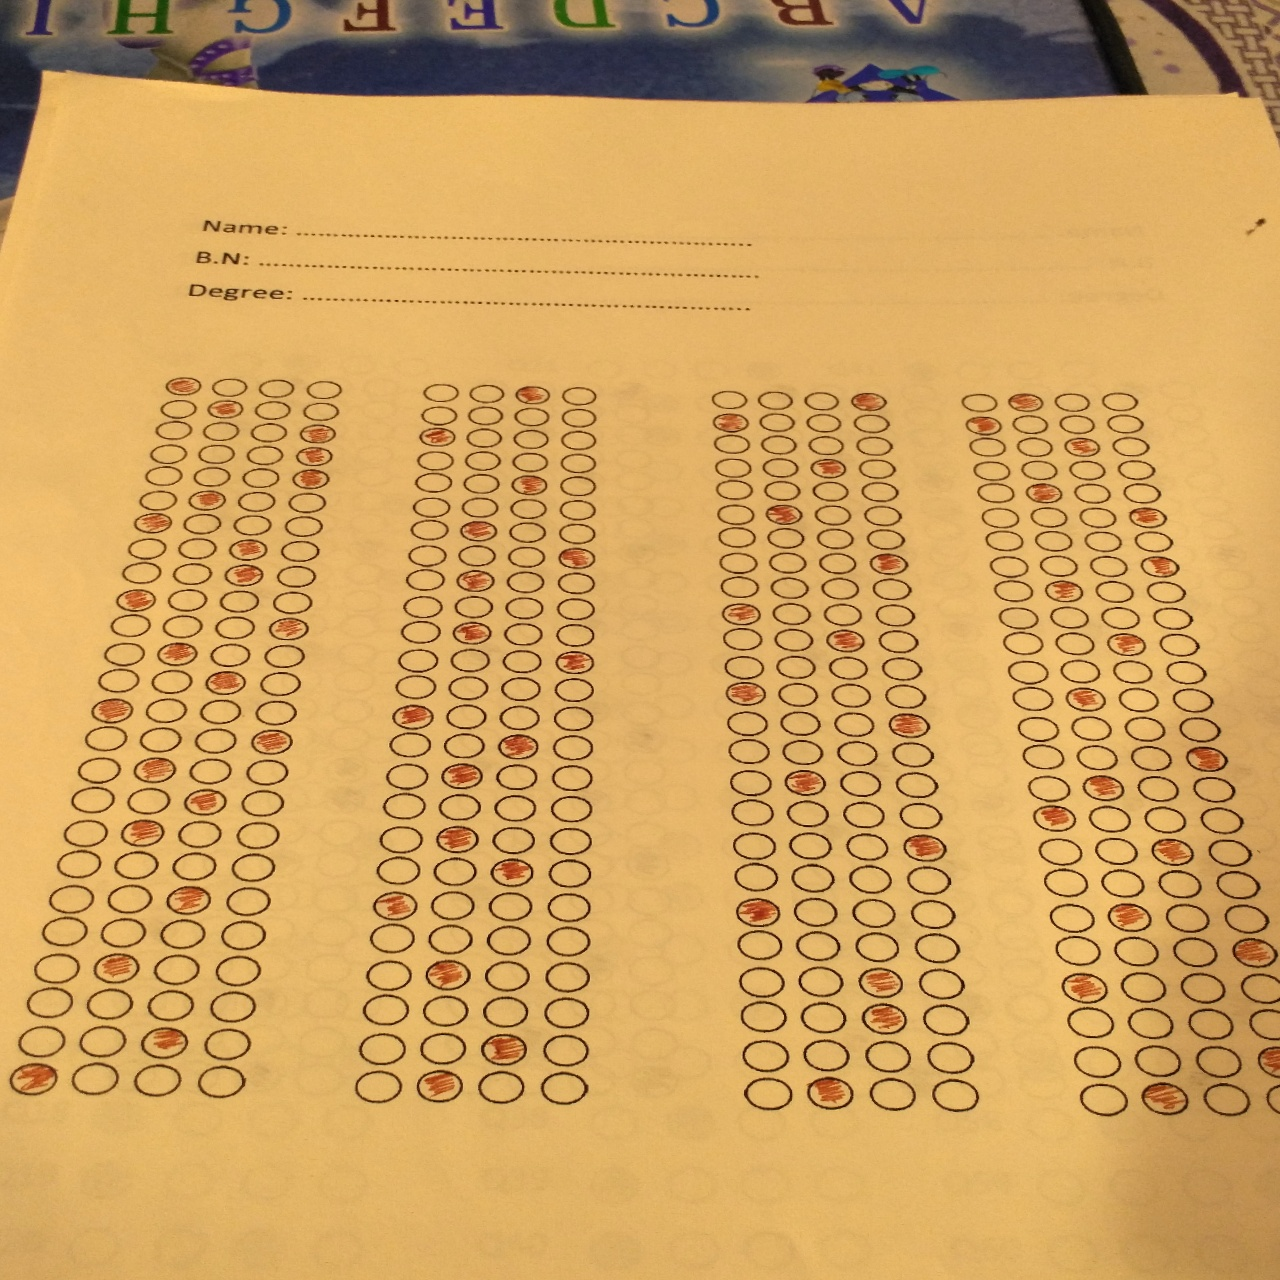not-c: (352, 1068, 403, 1107), (926, 1040, 978, 1078), (1201, 1081, 1253, 1119), (1051, 932, 1103, 971), (915, 966, 967, 1005), (72, 1060, 122, 1098), (361, 990, 411, 1029), (1077, 1081, 1128, 1119), (797, 999, 847, 1037), (736, 964, 787, 1002), (476, 1069, 527, 1107), (542, 960, 593, 998), (931, 1077, 982, 1115), (1194, 1042, 1246, 1080), (864, 1037, 915, 1075), (799, 1036, 851, 1074), (741, 1037, 792, 1075), (794, 962, 845, 1000), (132, 1062, 183, 1099), (76, 1022, 127, 1060), (16, 1023, 67, 1061), (363, 956, 414, 994), (539, 1071, 590, 1109), (542, 1032, 592, 1069), (542, 994, 592, 1032), (743, 1076, 794, 1114), (867, 1076, 918, 1114), (1133, 1043, 1184, 1081), (1073, 1044, 1123, 1082), (1065, 1003, 1116, 1041), (1125, 1005, 1176, 1042), (1186, 1006, 1237, 1043), (1179, 971, 1230, 1008), (1119, 969, 1170, 1007), (737, 998, 788, 1035), (792, 927, 843, 965), (913, 930, 964, 967), (908, 896, 959, 933), (735, 927, 787, 964), (356, 1032, 407, 1068), (921, 1002, 972, 1039), (852, 928, 903, 965), (847, 896, 899, 931), (96, 914, 147, 949), (196, 1064, 246, 1099), (730, 860, 781, 896), (785, 828, 836, 863), (789, 896, 840, 930), (152, 951, 202, 986), (203, 1027, 252, 1062), (420, 993, 469, 1028), (418, 1030, 468, 1065), (46, 881, 96, 915), (40, 914, 90, 948), (156, 917, 206, 951), (729, 829, 779, 863), (905, 864, 955, 898), (1040, 867, 1090, 901), (1047, 903, 1097, 937), (1162, 903, 1212, 937), (1211, 869, 1261, 903), (1090, 835, 1141, 869), (1196, 803, 1246, 837), (27, 985, 75, 1020), (483, 994, 531, 1029), (33, 949, 82, 983), (145, 987, 195, 1021), (789, 862, 838, 896), (1223, 903, 1272, 937), (1156, 866, 1205, 900), (1111, 935, 1160, 969), (1170, 935, 1219, 969), (224, 885, 274, 918), (1205, 836, 1255, 869), (491, 760, 539, 794), (545, 856, 593, 890), (105, 881, 154, 915), (220, 919, 268, 953), (84, 987, 132, 1021), (207, 990, 257, 1023), (846, 863, 896, 896), (1099, 866, 1149, 899), (484, 959, 531, 993), (431, 855, 479, 887), (437, 790, 485, 823), (549, 762, 597, 795), (486, 890, 535, 922), (428, 888, 476, 921), (367, 921, 415, 954), (427, 922, 475, 955), (484, 922, 532, 955), (543, 924, 591, 956), (215, 954, 263, 987), (1037, 835, 1085, 867), (238, 788, 287, 819), (491, 792, 538, 825), (489, 823, 536, 856), (547, 824, 594, 857), (549, 794, 595, 826), (549, 731, 595, 764), (1239, 971, 1280, 1008), (544, 892, 592, 924), (192, 726, 240, 757), (169, 850, 217, 881), (897, 799, 945, 831), (729, 796, 777, 828), (726, 768, 774, 799), (723, 709, 771, 741), (721, 651, 769, 682), (1133, 772, 1182, 804), (1189, 772, 1237, 804), (61, 818, 110, 849), (229, 852, 278, 883), (843, 799, 890, 831), (784, 798, 831, 830), (186, 755, 234, 785), (74, 755, 122, 785), (234, 821, 282, 851), (177, 818, 225, 849), (56, 847, 104, 878), (1141, 804, 1189, 835), (1024, 772, 1073, 803), (375, 855, 422, 885), (113, 850, 159, 880), (1087, 803, 1133, 833), (726, 736, 772, 767), (442, 702, 490, 731), (377, 825, 425, 855), (136, 726, 184, 755), (842, 832, 890, 862), (442, 729, 488, 760), (837, 769, 883, 799), (243, 757, 290, 787), (69, 784, 116, 813), (835, 738, 881, 768), (253, 697, 298, 728), (108, 611, 154, 640), (552, 621, 598, 651), (387, 730, 433, 760), (383, 761, 429, 790), (149, 666, 195, 695), (145, 696, 191, 726), (82, 723, 128, 753), (720, 624, 765, 653), (381, 792, 428, 821), (207, 642, 254, 670), (124, 787, 171, 815), (774, 681, 821, 709), (890, 740, 937, 768), (1176, 715, 1223, 743), (1074, 743, 1118, 772), (1068, 715, 1112, 744), (1164, 658, 1208, 687), (394, 646, 440, 674), (496, 675, 542, 703), (550, 676, 595, 704), (774, 653, 819, 681), (824, 654, 870, 682), (883, 683, 928, 712), (1122, 715, 1167, 743), (1015, 715, 1061, 743), (1009, 686, 1055, 714), (778, 709, 822, 738), (1156, 629, 1199, 659), (1099, 602, 1143, 632), (1247, 1006, 1280, 1044), (211, 614, 256, 642), (397, 619, 442, 647), (498, 703, 543, 731), (198, 697, 243, 726), (781, 738, 825, 767), (833, 710, 878, 738), (829, 681, 873, 709), (894, 771, 939, 799), (876, 627, 920, 655), (1022, 743, 1067, 771), (1129, 744, 1173, 772), (1001, 628, 1046, 656), (998, 605, 1042, 633), (992, 578, 1036, 606), (1116, 686, 1160, 714), (159, 613, 205, 640), (501, 621, 546, 648), (499, 647, 545, 674), (448, 646, 493, 673), (394, 672, 440, 699), (448, 675, 493, 702), (261, 644, 307, 670), (101, 640, 147, 667), (256, 670, 301, 697), (872, 602, 918, 629), (1006, 658, 1051, 685), (1058, 658, 1104, 685), (880, 655, 924, 683), (1092, 578, 1136, 606), (501, 595, 547, 621), (767, 601, 813, 627), (553, 595, 598, 622), (551, 704, 595, 731), (96, 667, 141, 694), (769, 627, 813, 654), (1170, 687, 1214, 714), (1144, 579, 1189, 606), (277, 539, 322, 565), (503, 568, 549, 594), (400, 593, 445, 619), (217, 588, 263, 614), (270, 591, 315, 617), (1053, 631, 1098, 656), (1151, 605, 1194, 632), (173, 536, 218, 561), (403, 566, 448, 592), (170, 561, 215, 587), (165, 587, 210, 613), (821, 601, 865, 627), (819, 576, 862, 602), (720, 574, 762, 601), (406, 544, 451, 568), (273, 564, 319, 588), (120, 561, 165, 586), (411, 469, 455, 495), (455, 543, 498, 568), (1112, 659, 1156, 685), (1039, 552, 1080, 579), (871, 576, 912, 602), (765, 549, 806, 576), (411, 449, 456, 474), (418, 379, 463, 403), (449, 594, 493, 619), (1047, 605, 1091, 629), (125, 536, 168, 561), (410, 495, 452, 520), (1087, 552, 1129, 578), (988, 553, 1030, 579), (768, 574, 810, 600), (717, 550, 760, 576), (817, 551, 859, 577), (416, 403, 459, 428), (461, 448, 504, 472), (554, 520, 598, 545), (1032, 529, 1075, 553), (1083, 529, 1126, 553), (1131, 530, 1175, 554), (851, 434, 894, 458), (804, 433, 847, 457), (767, 526, 808, 552), (508, 428, 552, 451), (467, 381, 509, 406), (558, 406, 600, 430), (557, 428, 599, 452), (408, 519, 451, 543), (463, 427, 506, 450), (504, 545, 547, 568), (506, 520, 550, 544), (508, 450, 551, 474), (509, 404, 552, 428), (554, 572, 598, 595), (813, 526, 857, 550), (863, 527, 906, 551), (715, 502, 758, 525), (966, 435, 1009, 458), (1017, 457, 1061, 481), (1109, 436, 1152, 459), (1104, 413, 1148, 436), (958, 392, 1001, 415), (849, 411, 892, 435), (855, 457, 898, 481), (760, 478, 803, 502), (709, 455, 753, 478), (756, 433, 799, 456), (803, 411, 846, 435), (753, 388, 796, 411), (459, 472, 504, 495), (708, 389, 753, 411), (182, 512, 224, 536), (558, 384, 600, 408), (558, 475, 600, 498), (812, 504, 855, 527), (860, 504, 903, 527), (982, 529, 1024, 552), (1073, 482, 1115, 505), (1028, 504, 1070, 527), (1065, 458, 1108, 482), (1121, 482, 1163, 505), (1057, 413, 1099, 436), (1010, 413, 1053, 436), (1050, 390, 1092, 414), (757, 457, 799, 481), (463, 403, 506, 425), (554, 498, 598, 520), (714, 527, 757, 550), (1077, 505, 1121, 527), (980, 506, 1023, 529), (1013, 437, 1056, 459), (971, 458, 1014, 481), (858, 481, 901, 503), (808, 479, 851, 502), (712, 478, 755, 501), (154, 418, 195, 442), (200, 420, 241, 443), (248, 420, 290, 443), (234, 490, 275, 513), (196, 442, 237, 465), (147, 442, 188, 465), (137, 489, 178, 512), (282, 515, 324, 538), (459, 496, 501, 519), (976, 482, 1017, 505), (508, 498, 550, 520), (556, 451, 598, 474), (1116, 459, 1158, 482), (1098, 392, 1141, 414), (757, 411, 799, 434), (712, 431, 754, 454), (799, 390, 842, 413), (244, 444, 285, 467), (241, 467, 282, 489), (191, 465, 232, 488), (286, 492, 327, 515), (304, 379, 343, 401), (252, 400, 292, 422), (159, 399, 199, 421), (232, 513, 272, 536), (142, 465, 183, 486), (209, 376, 248, 397), (256, 377, 295, 399), (301, 401, 341, 422), (1264, 1081, 1280, 1119)
taken-c: (5, 1058, 60, 1098), (411, 1065, 465, 1105), (476, 1030, 530, 1069), (368, 887, 422, 926), (136, 1023, 190, 1061), (420, 955, 474, 993), (1101, 900, 1155, 937), (1057, 971, 1110, 1007), (804, 1075, 855, 1112), (1139, 1080, 1191, 1116), (1228, 935, 1280, 972), (90, 949, 141, 986), (855, 964, 905, 1000), (434, 823, 485, 858), (859, 1000, 908, 1036), (387, 700, 438, 734), (1146, 835, 1198, 869), (486, 855, 536, 890), (440, 758, 489, 794), (493, 728, 543, 763), (733, 896, 783, 930), (1030, 801, 1081, 835), (782, 767, 831, 799), (900, 831, 949, 864), (1080, 772, 1128, 805), (1184, 744, 1233, 776), (1063, 685, 1112, 716), (164, 883, 211, 915), (118, 817, 166, 849), (181, 787, 229, 817), (200, 667, 248, 696), (447, 618, 495, 647), (131, 755, 178, 784), (553, 648, 600, 678), (723, 679, 768, 709), (455, 518, 503, 546), (1041, 577, 1087, 606), (154, 640, 200, 668), (452, 567, 499, 595), (552, 545, 599, 573), (821, 626, 867, 654), (90, 695, 135, 724), (248, 728, 294, 756), (1136, 554, 1182, 583), (1105, 631, 1150, 659), (1023, 479, 1068, 508), (414, 425, 459, 452), (886, 712, 932, 738), (222, 561, 266, 588), (719, 601, 763, 628), (1125, 505, 1170, 532), (508, 383, 553, 409), (509, 474, 553, 499), (762, 502, 806, 527), (113, 587, 156, 613), (185, 488, 227, 513), (267, 617, 309, 642), (226, 537, 270, 561), (1060, 435, 1103, 459), (849, 389, 892, 414), (865, 552, 910, 576), (962, 413, 1005, 437), (132, 510, 173, 535), (1252, 1046, 1280, 1081), (1005, 392, 1047, 415), (712, 411, 751, 436), (810, 456, 850, 481), (290, 467, 331, 490), (162, 375, 204, 397), (297, 423, 338, 445), (206, 399, 248, 420), (293, 445, 333, 468)
